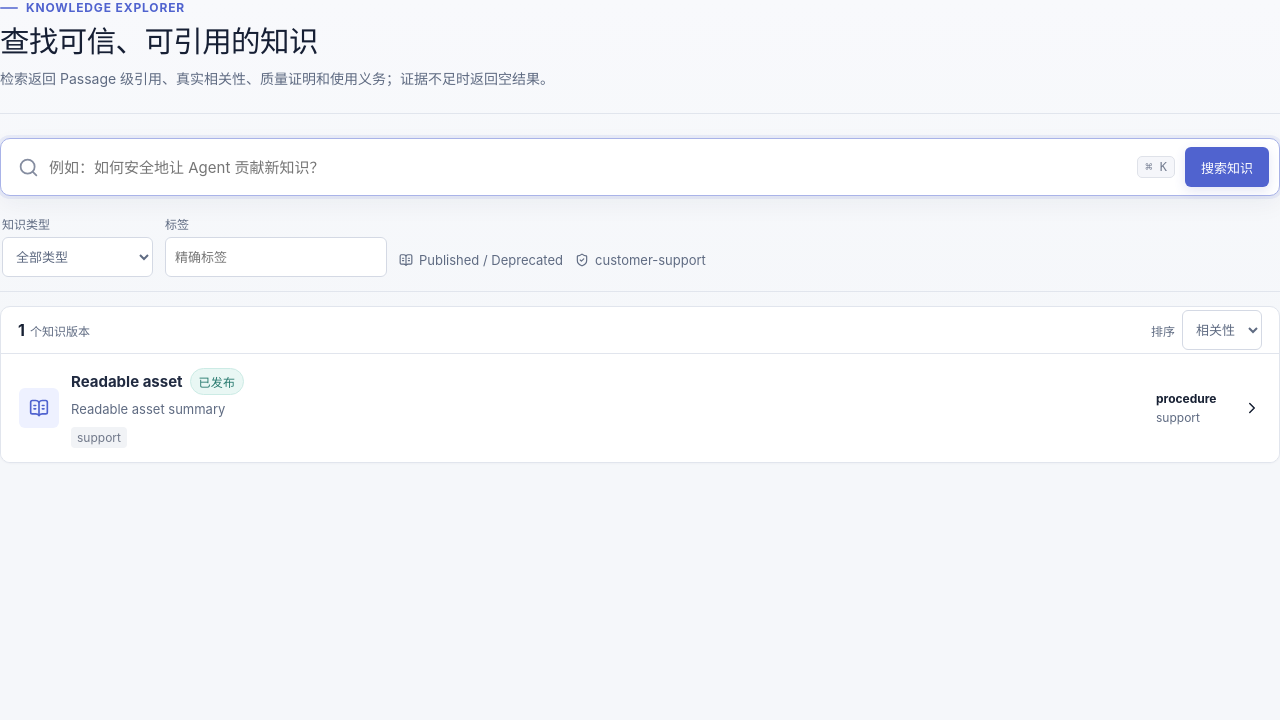
knowledge explorer request identity › shows the actual detail failure and offers a retry
Click the button "Readable asset". click: (39, 408)
box: [1,354,1279,462]
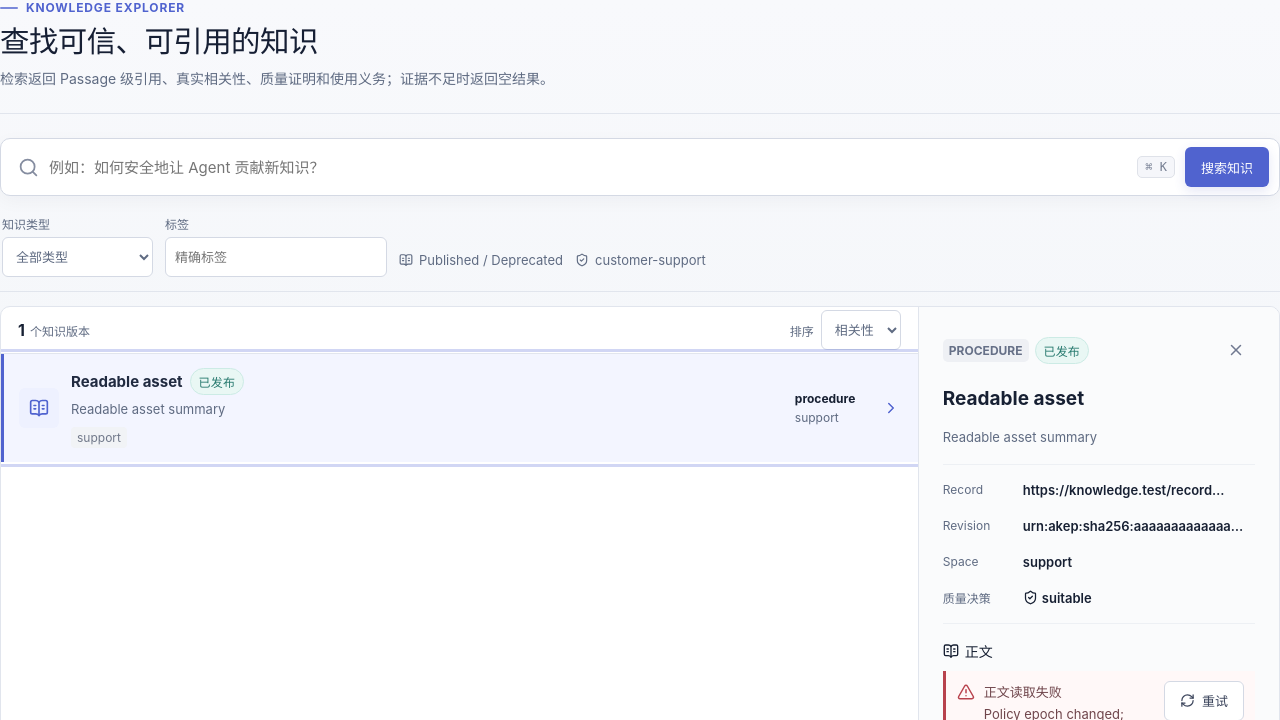
Expected: the button "重试" is shown, [1164,681,1244,719]
